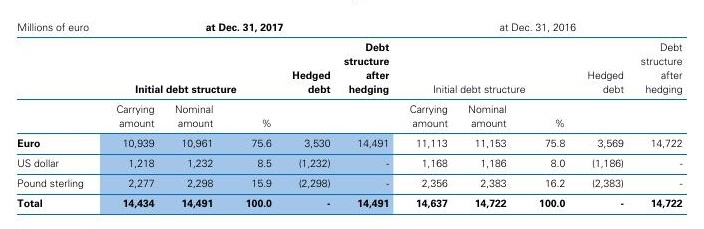table: (0, 0, 704, 229)
